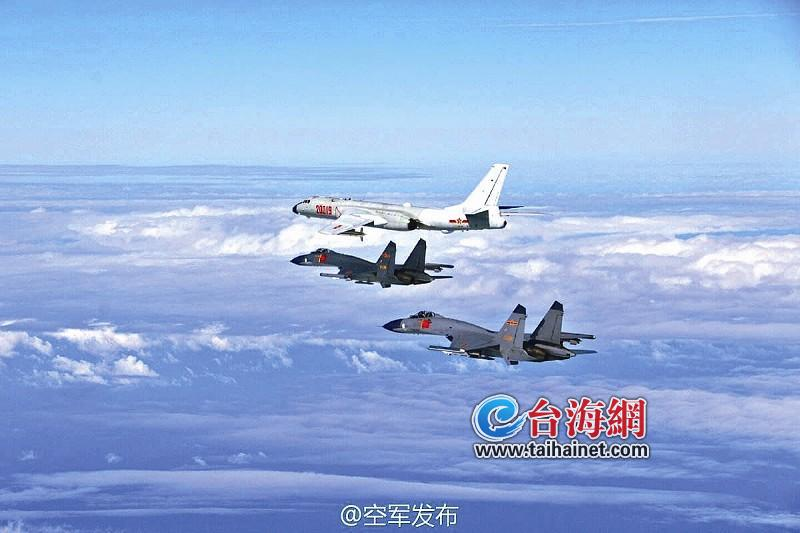airplane: (291, 160, 520, 233), (380, 299, 600, 364), (289, 247, 455, 289)
